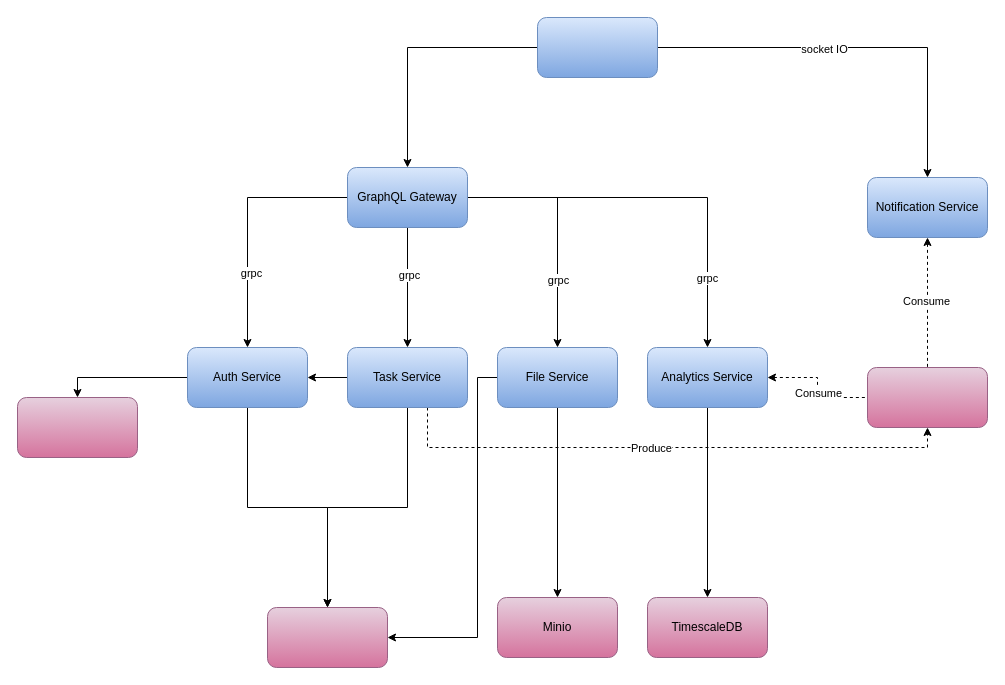
Image size: 1005x685. Some labels were removed from this diagram. The centre of each missing label's shape, as x and y in pixels:
"Postgres" goes at (x=327, y=637).
"Pulsar" goes at (x=927, y=397).
"Redis" goes at (x=77, y=427).
"Svelte Web UI" goes at (x=597, y=47).
